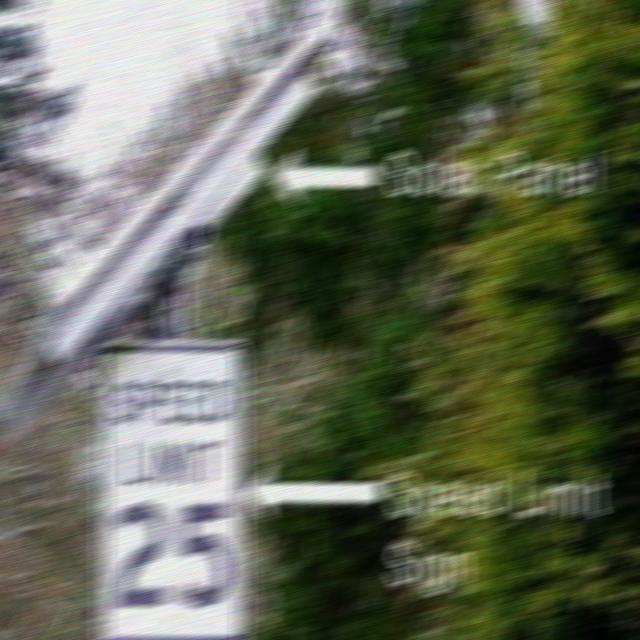speedLimit25: (97, 339, 245, 630)
